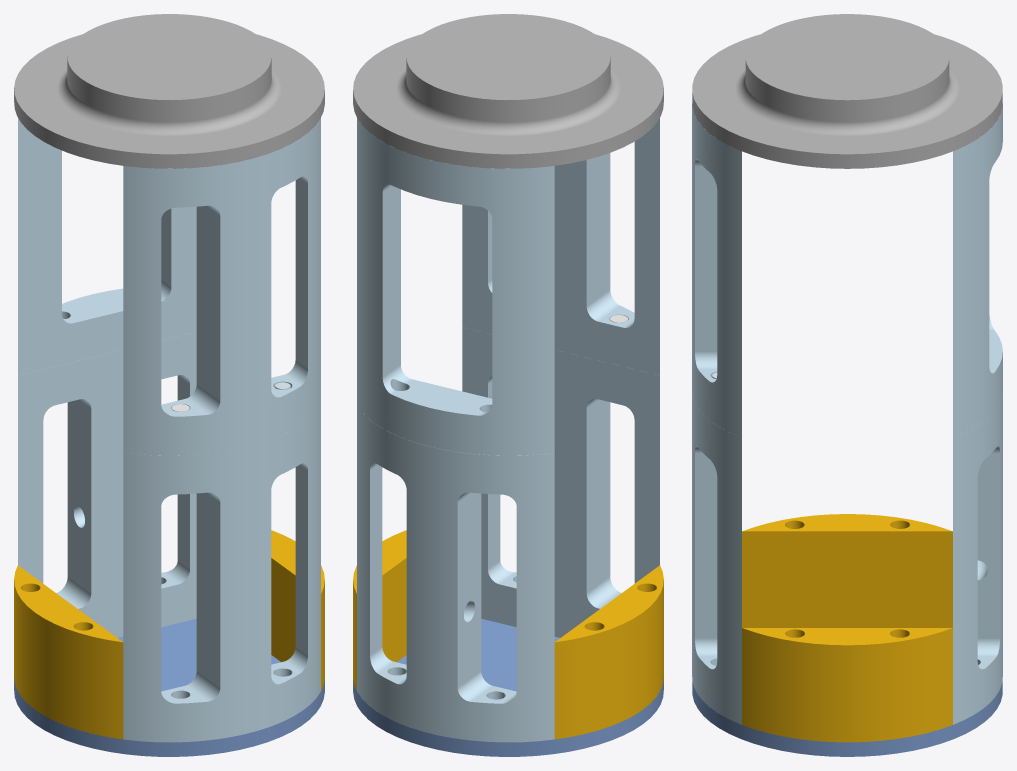
The model's file is Subscale_Sabot.gltf.
3 renders of one model, left to right at view 1: azimuth 30°, elevation 25°; view 2: azimuth 150°, elevation 25°; view 3: azimuth 270°, elevation 25°, orthographic.
Visible parts, largest first — view 1: Orange Leaf (Lower), Orange Leaf (Upper), Part 7, Grey Leaf (Lower), Grey Leaf (Upper), Part 11, Base, Part 10; view 2: Grey Leaf (Lower), Grey Leaf (Upper), Part 7, Orange Leaf (Lower), Orange Leaf (Upper), Part 11, Base, Part 10; view 3: Part 7, Part 10, Part 11, Orange Leaf (Lower), Grey Leaf (Lower), Orange Leaf (Upper), Grey Leaf (Upper), Base.
Part boxes in pixels (<box>): Orange Leaf (Lower): <box>123,405,320,742</box>; Orange Leaf (Upper): <box>123,118,320,455</box>; Part 7: <box>14,14,324,168</box>; Grey Leaf (Lower): <box>18,332,196,637</box>; Grey Leaf (Upper): <box>18,118,196,375</box>; Part 11: <box>14,565,123,739</box>; Base: <box>14,618,324,756</box>; Part 10: <box>271,530,324,690</box>; Grey Leaf (Lower): <box>357,405,554,742</box>; Grey Leaf (Upper): <box>357,118,554,455</box>; Part 7: <box>353,14,663,168</box>; Orange Leaf (Lower): <box>462,327,659,637</box>; Orange Leaf (Upper): <box>462,118,659,375</box>; Part 11: <box>554,565,663,739</box>; Base: <box>353,618,663,756</box>; Part 10: <box>353,530,406,690</box>; Part 7: <box>692,14,1002,168</box>; Part 10: <box>742,628,952,742</box>; Part 11: <box>742,514,952,627</box>; Orange Leaf (Lower): <box>692,390,741,724</box>; Grey Leaf (Lower): <box>953,390,1002,724</box>; Orange Leaf (Upper): <box>692,103,741,437</box>; Grey Leaf (Upper): <box>953,103,1002,437</box>; Base: <box>692,680,1002,756</box>.
Bounding box in the file's own units: 0.0737 × 0.1659 × 0.0737.
